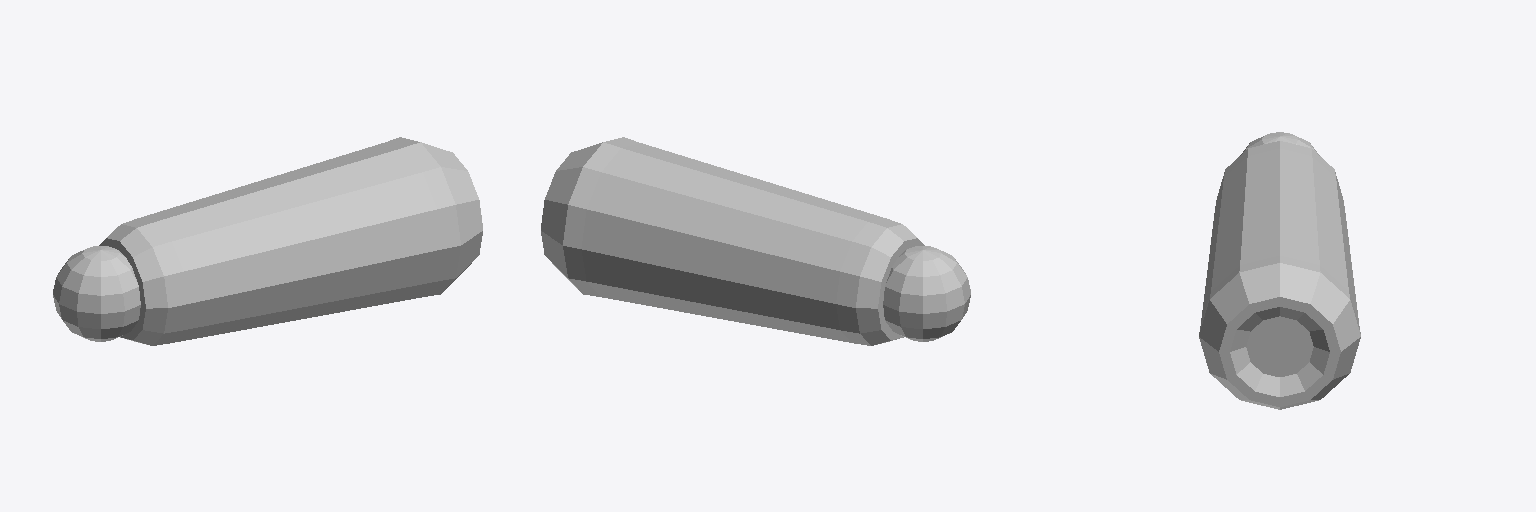
File: leftArm1.obj
3 views of the same model, side by side, from view 1: azimuth 30°, elevation 25°; view 2: azimuth 150°, elevation 25°; view 3: azimuth 270°, elevation 25° (orthographic).
Visible parts, largest first — view 1: dummy_hips3_dummy_belly_dummy_torso_dummy_rshoulder_dummy_r.001, dummy_hips3_dummy_belly_dummy_torso_dummy_rshoulder_dummy_rarm_; view 2: dummy_hips3_dummy_belly_dummy_torso_dummy_rshoulder_dummy_r.001, dummy_hips3_dummy_belly_dummy_torso_dummy_rshoulder_dummy_rarm_; view 3: dummy_hips3_dummy_belly_dummy_torso_dummy_rshoulder_dummy_r.001, dummy_hips3_dummy_belly_dummy_torso_dummy_rshoulder_dummy_rarm_.
Boxes of the visible parts, x1,y1,x2,y2 form: dummy_hips3_dummy_belly_dummy_torso_dummy_rshoulder_dummy_r.001: [99, 137, 482, 345]; dummy_hips3_dummy_belly_dummy_torso_dummy_rshoulder_dummy_rarm_: [53, 246, 140, 341]; dummy_hips3_dummy_belly_dummy_torso_dummy_rshoulder_dummy_r.001: [541, 137, 924, 345]; dummy_hips3_dummy_belly_dummy_torso_dummy_rshoulder_dummy_rarm_: [883, 246, 970, 341]; dummy_hips3_dummy_belly_dummy_torso_dummy_rshoulder_dummy_r.001: [1199, 141, 1360, 409]; dummy_hips3_dummy_belly_dummy_torso_dummy_rshoulder_dummy_rarm_: [1240, 132, 1319, 155].
Size of the model in its own units: 27.5 by 9.82 by 9.82.